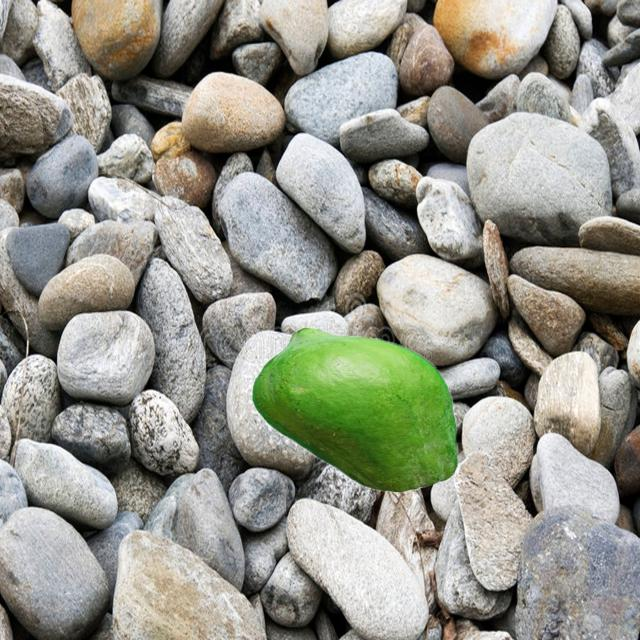Pepaya unrippen: (248, 320, 464, 501)
